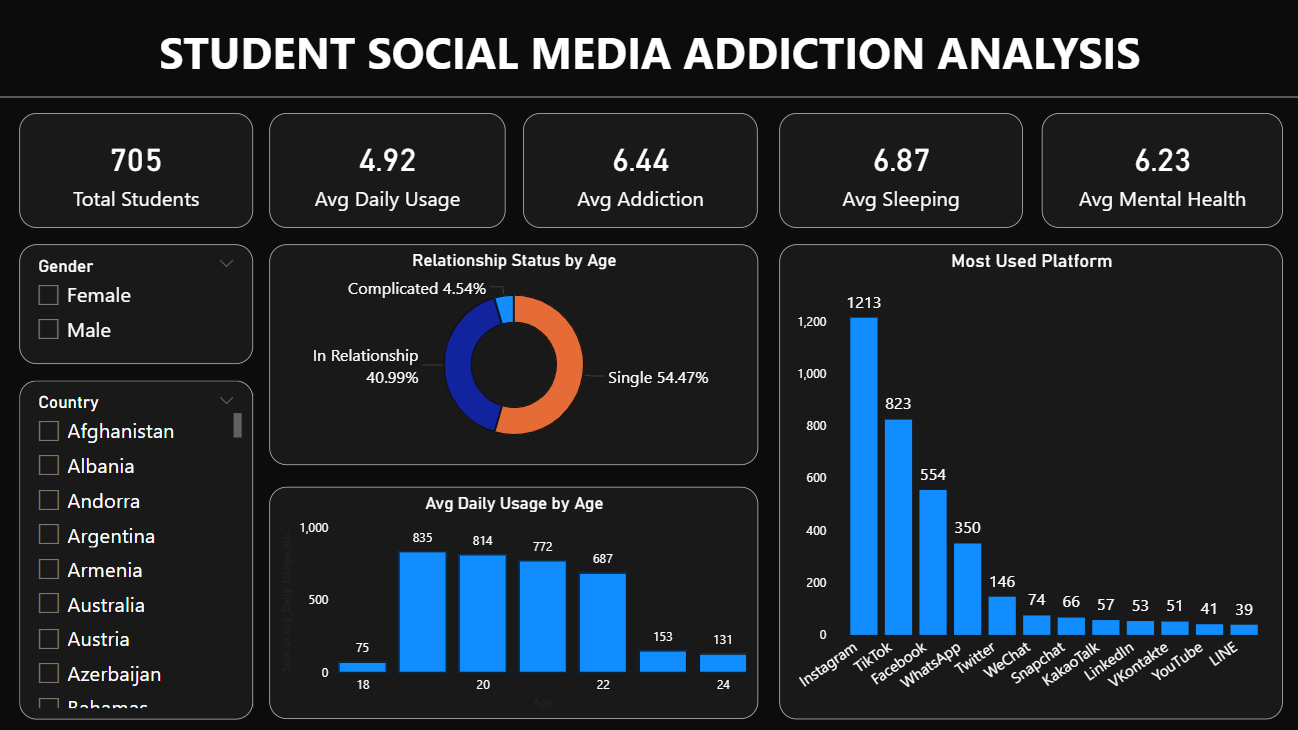

What the dashboard file says about the page in this screenshot:
{"tool":"powerbi","page":{"name":"Page 1","canvas":[1280,720],"ordinal":0},"visuals":[{"type":"textbox","box":[0,0,1280.3,97.4],"z":0},{"type":"card","fields":{"Values":["CountNonNull(Students Social Media Addiction.Student_ID)"]},"box":[20.9,112.9,229.4,112.9],"z":1000},{"type":"card","fields":{"Values":["Avg(Students Social Media Addiction.Avg_Daily_Usage_Hours)"]},"box":[266.3,112.9,231.9,112.9],"z":2000},{"type":"card","fields":{"Values":["Avg(Students Social Media Addiction.Addicted_Score)"]},"box":[515.3,112.9,230.7,112.9],"z":3000},{"type":"card","fields":{"Values":["Avg(Students Social Media Addiction.Sleep_Hours_Per_Night)"]},"box":[766.9,112.9,239.3,112.9],"z":4000},{"type":"card","fields":{"Values":["Avg(Students Social Media Addiction.Mental_Health_Score)"]},"box":[1024.5,112.9,236.8,112.9],"z":5000},{"type":"slicer","fields":{"Values":["Students Social Media Addiction.Gender"]},"box":[20.9,241.7,229.4,117.8],"z":6000},{"type":"slicer","fields":{"Values":["Students Social Media Addiction.Country"]},"box":[20.9,375.5,229.4,332.5],"z":7000},{"type":"donutChart","title":"Relationship Status by Age","fields":{"Category":["Students Social Media Addiction.Relationship_Status"],"Y":["CountNonNull(Students Social Media Addiction.Age)"]},"box":[266.3,241.7,479.8,217.2],"z":8000},{"type":"clusteredColumnChart","title":"Avg Daily Usage by Age","fields":{"Category":["Students Social Media Addiction.Age"],"Y":["Sum(Students Social Media Addiction.Avg_Daily_Usage_Hours)"]},"box":[266.3,479.8,479.8,228.2],"z":9000},{"type":"columnChart","title":"Most Used Platform","fields":{"Category":["Students Social Media Addiction.Most_Used_Platform"],"Y":["Sum(Students Social Media Addiction.Avg_Daily_Usage_Hours)"]},"box":[766.9,241.7,494.5,466.3],"z":10000}]}

Visuals, with their boxes in screenshot pixels (x1, y1, x2, y2), scaled from the page's 1280x720 canvas onto the 1298x730 screenshot:
textbox: locate(0, 0, 1297, 99)
card - CountNonNull(Students Social Media Addiction.Student_ID): locate(21, 114, 254, 229)
card - Avg(Students Social Media Addiction.Avg_Daily_Usage_Hours): locate(270, 114, 505, 229)
card - Avg(Students Social Media Addiction.Addicted_Score): locate(523, 114, 756, 229)
card - Avg(Students Social Media Addiction.Sleep_Hours_Per_Night): locate(778, 114, 1020, 229)
card - Avg(Students Social Media Addiction.Mental_Health_Score): locate(1039, 114, 1279, 229)
slicer - Students Social Media Addiction.Gender: locate(21, 245, 254, 364)
slicer - Students Social Media Addiction.Country: locate(21, 381, 254, 718)
"Relationship Status by Age" donutChart: locate(270, 245, 757, 465)
"Avg Daily Usage by Age" clusteredColumnChart: locate(270, 486, 757, 718)
"Most Used Platform" columnChart: locate(778, 245, 1279, 718)
